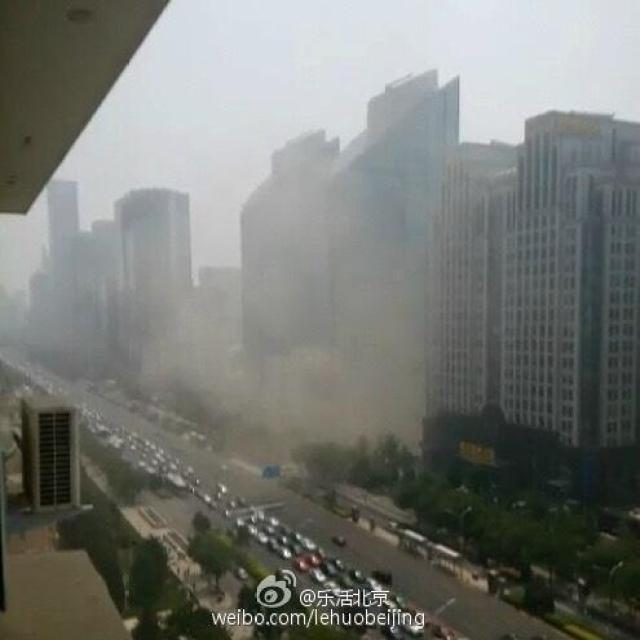Smoke: (125, 154, 437, 466)
